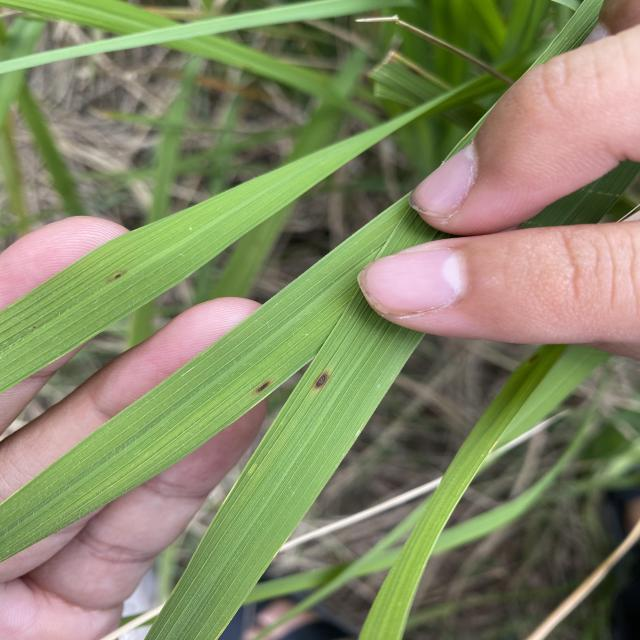Dom nau: (251, 375, 275, 397), (315, 368, 332, 391), (109, 269, 126, 281)
